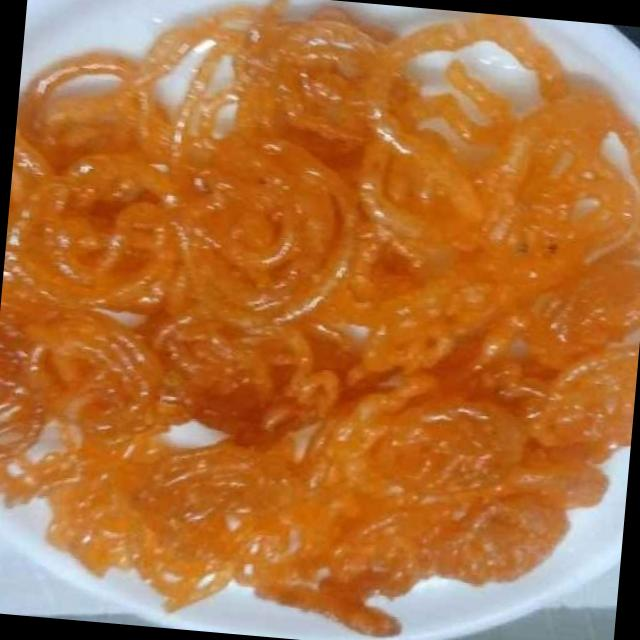jalebi: (0, 0, 640, 615)
